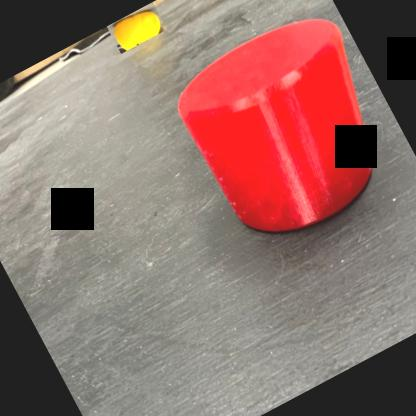duck: (107, 2, 167, 53)
red cylinder: (162, 0, 416, 261)
